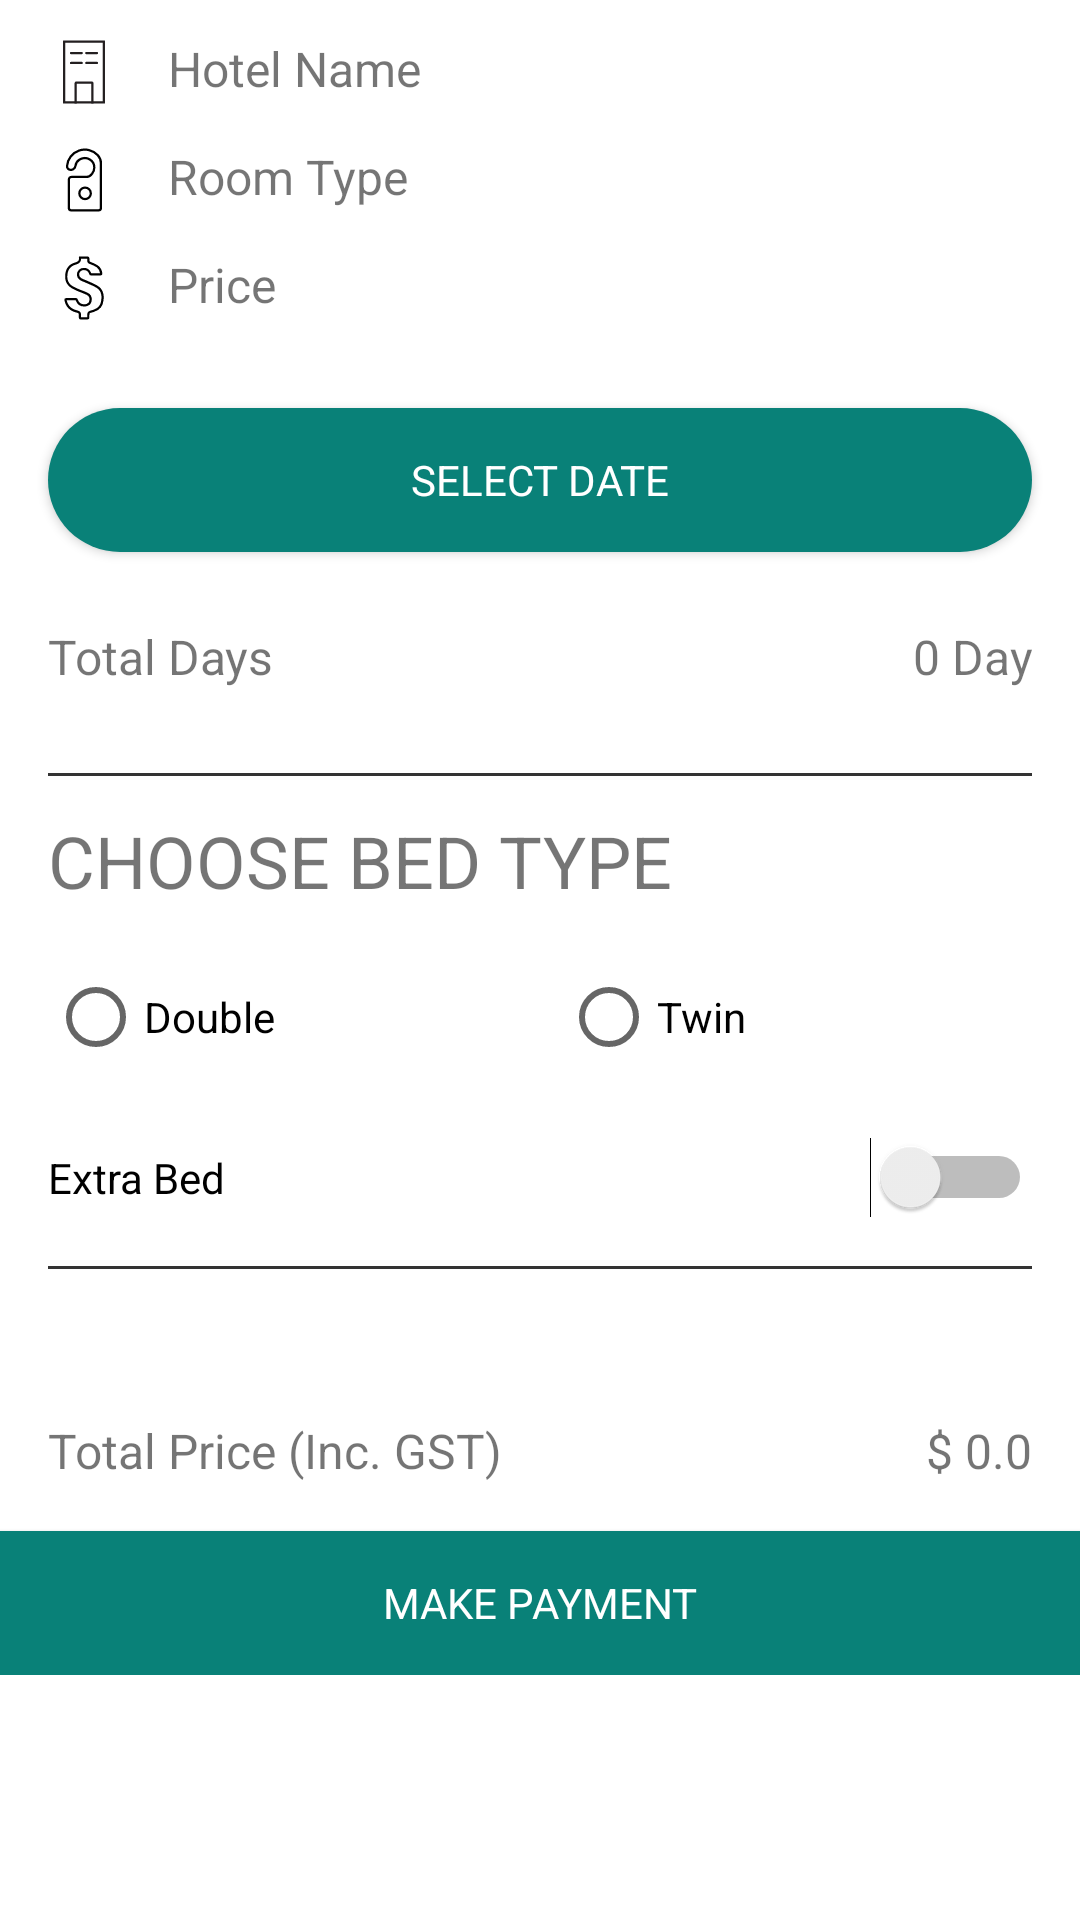

Icons on this 1080×1920 Android screen, each with its box as box=[x1, y1, x2, y2]:
currency: box=[64, 256, 104, 320]
